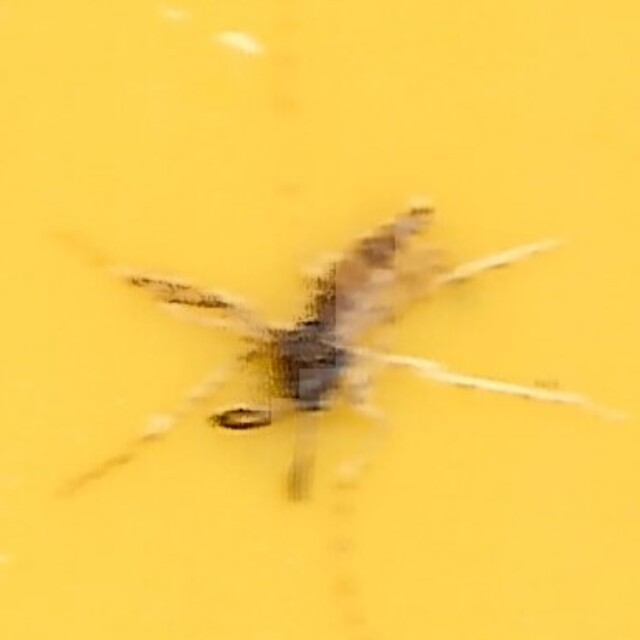Nematocera: (165, 174, 475, 466)
